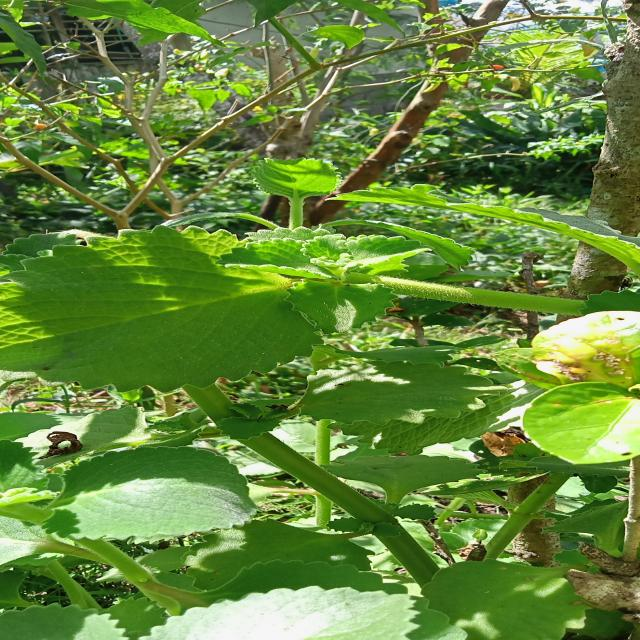Oregano: (0, 216, 366, 402), (25, 426, 271, 562), (131, 580, 469, 640)
